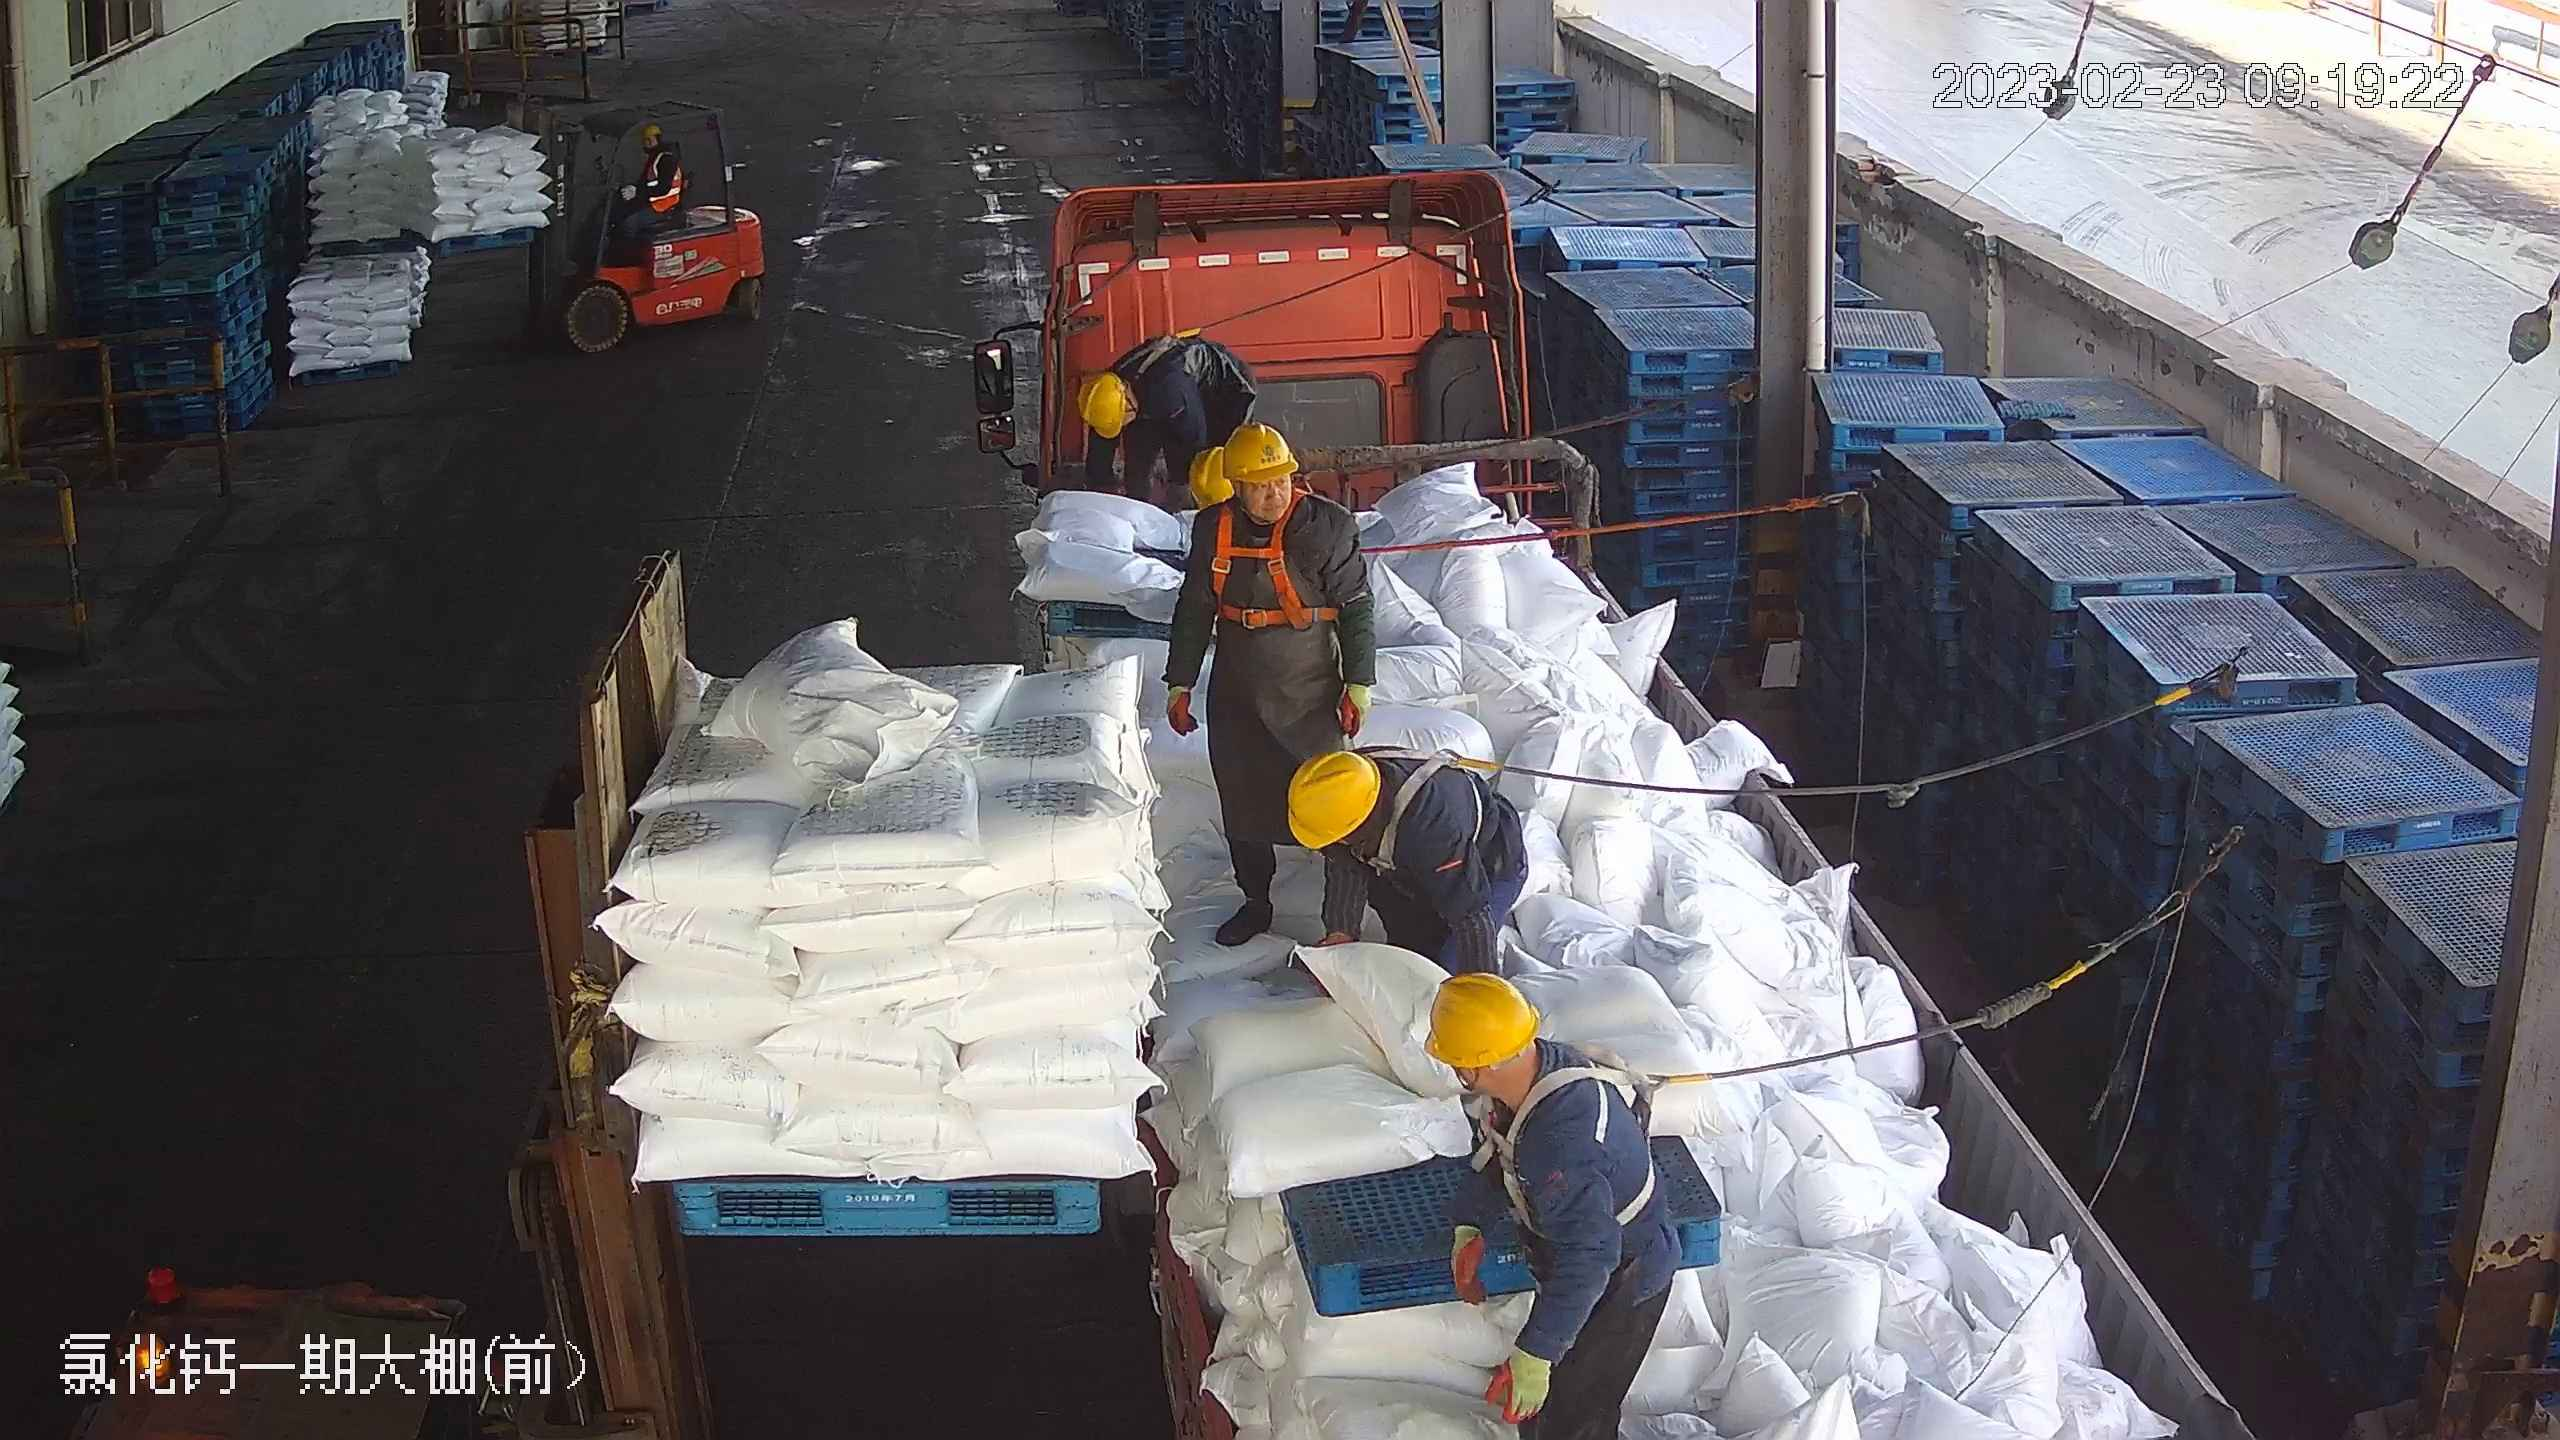belt: (1448, 1048, 1702, 1233), (1357, 745, 1500, 881), (1208, 494, 1339, 627), (1134, 323, 1212, 376)
head: (1435, 969, 1620, 1189), (1193, 427, 1362, 589), (1284, 748, 1459, 888), (1075, 341, 1201, 434), (1286, 748, 1382, 855), (633, 122, 675, 174)
helmet: (1427, 969, 1540, 1068), (1287, 749, 1379, 847), (1217, 424, 1296, 488), (1179, 432, 1248, 501), (1076, 370, 1129, 437), (638, 121, 664, 141)
people: (1164, 424, 1376, 953), (1435, 974, 1670, 1440), (1273, 743, 1524, 981), (1058, 338, 1259, 502), (609, 121, 681, 233)
truck: (963, 162, 2250, 1435)
